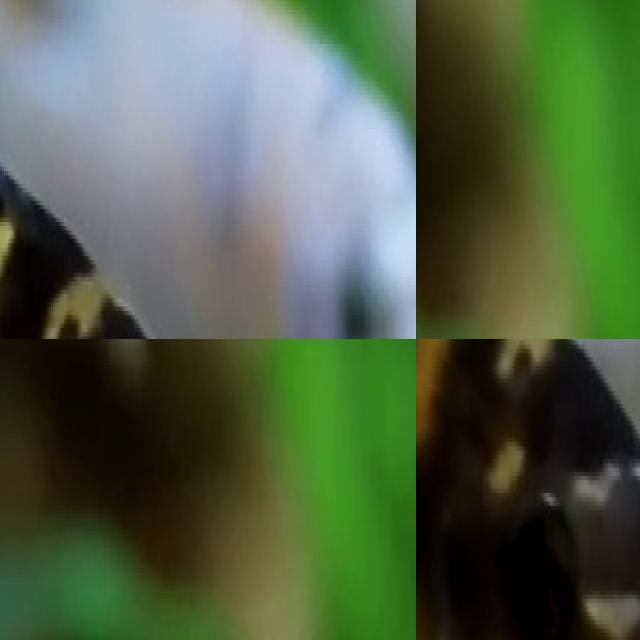fish: (0, 0, 416, 339), (436, 339, 640, 640)
